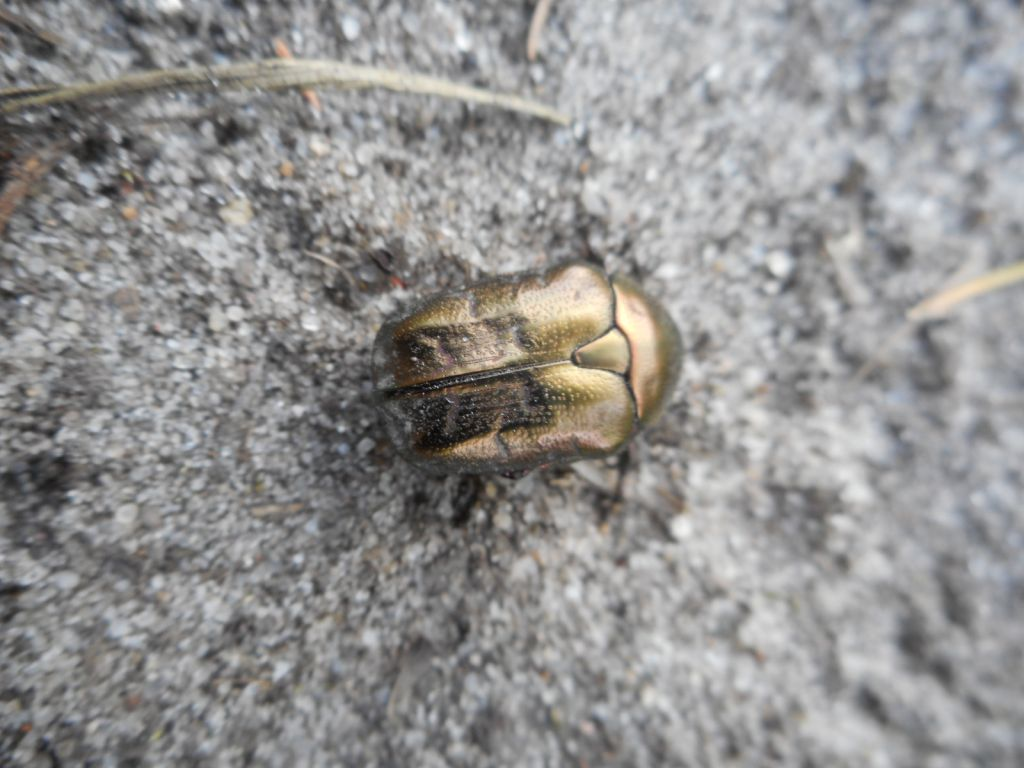Protaetia_metallica: (353, 255, 685, 486)
